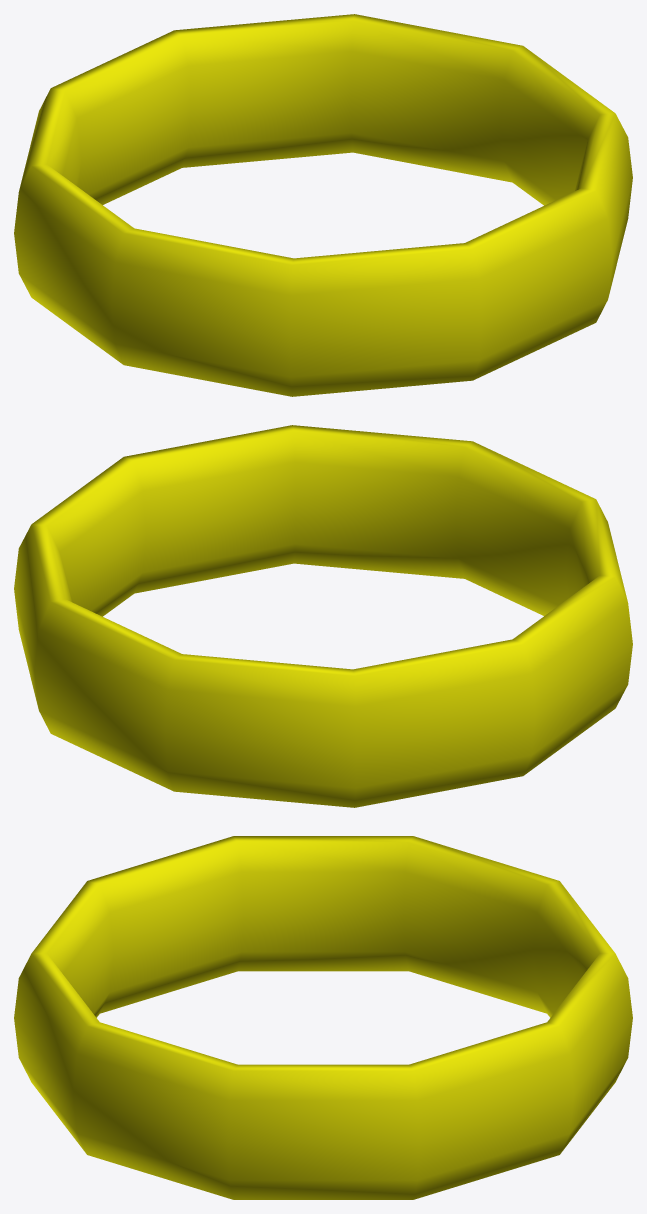
The model's file is Ring.fbx.
3 renders of one model, top to bottom at view 1: azimuth 30°, elevation 25°; view 2: azimuth 150°, elevation 25°; view 3: azimuth 270°, elevation 25°, orthographic. The views are drawn at different scales.
Parts seen in each view (by area): view 1: Ring; view 2: Ring; view 3: Ring.
Part boxes in pixels (x1,y1,x2,y2): Ring: (14, 14, 632, 396); Ring: (14, 425, 632, 807); Ring: (14, 836, 632, 1199).
Bounding box in the file's own units: 4.67 × 1.13 × 4.91.
